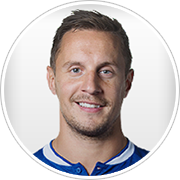smile: (75, 97, 107, 113)
